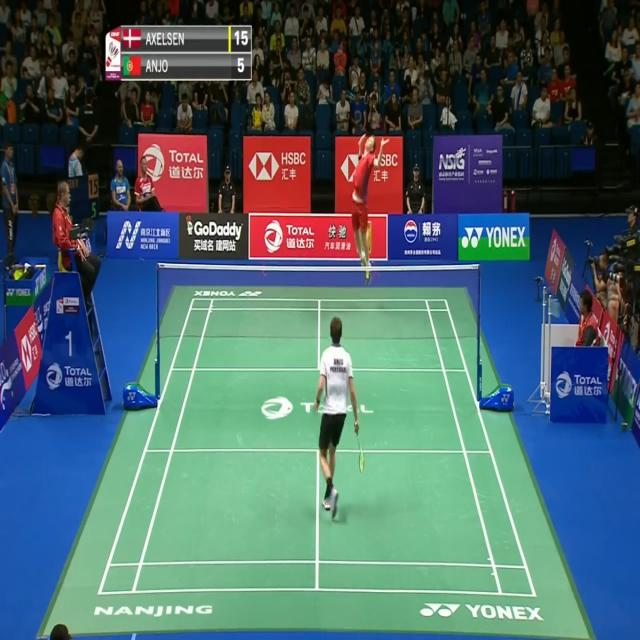Player1: (312, 311, 366, 523)
Player2: (350, 125, 389, 284)
